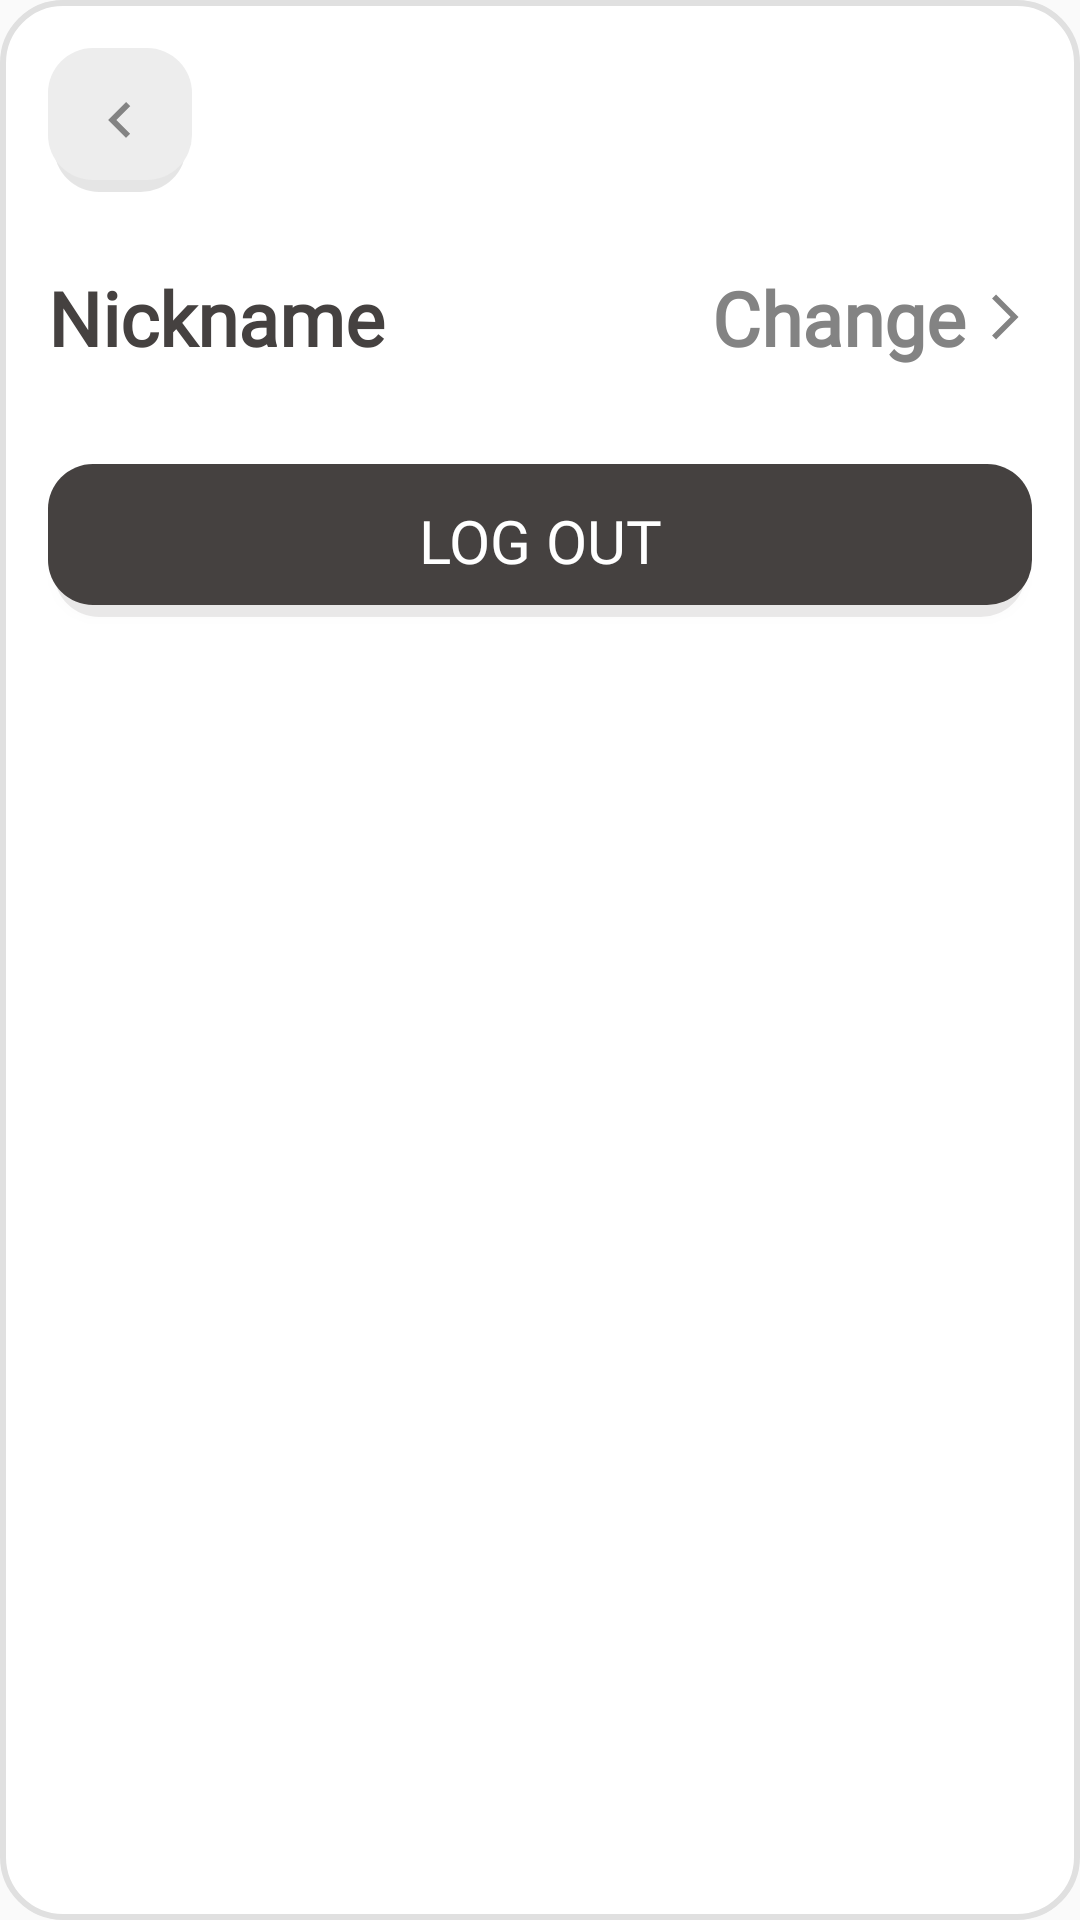

Icon bounding boxes for this 1080 × 1920 phone screenshot, format [x1,y1,x2,y2]:
Return to the previous page: [48,48,192,192]
